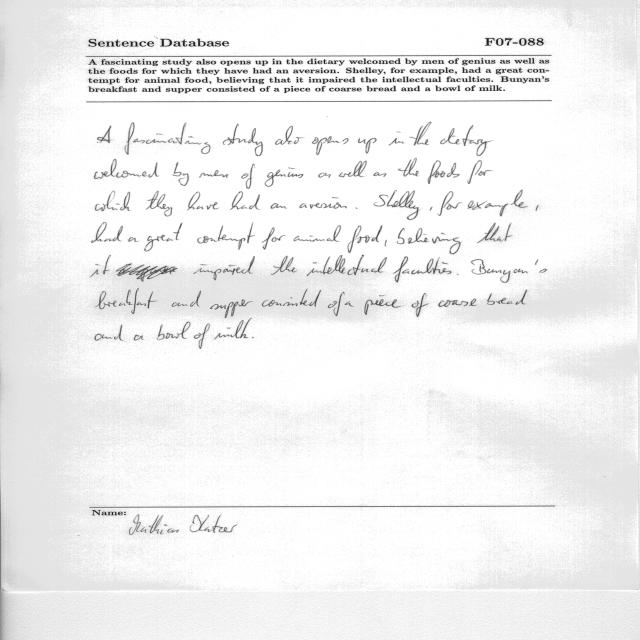word: (125, 122, 211, 155), (471, 259, 547, 283), (307, 255, 387, 276), (397, 228, 461, 254), (197, 222, 255, 250), (441, 125, 493, 156), (95, 288, 157, 314), (467, 190, 528, 216), (393, 257, 451, 283), (193, 256, 255, 280), (374, 190, 420, 220), (94, 159, 159, 179), (223, 124, 263, 156), (116, 263, 178, 282), (145, 223, 183, 251), (262, 289, 321, 307), (348, 225, 383, 253), (294, 225, 341, 242), (210, 299, 252, 318), (214, 318, 252, 339), (428, 160, 460, 184), (265, 167, 303, 187), (364, 295, 401, 315), (96, 191, 131, 211), (477, 223, 512, 243), (312, 136, 348, 155), (91, 222, 123, 243), (146, 191, 172, 216), (157, 322, 191, 340), (438, 191, 462, 216), (487, 290, 527, 305), (468, 160, 492, 184), (187, 192, 219, 210), (230, 191, 260, 210), (300, 197, 347, 209), (275, 126, 304, 145), (410, 122, 432, 146), (262, 228, 285, 250), (271, 256, 297, 275), (339, 161, 367, 178), (172, 291, 201, 307), (90, 255, 111, 277), (95, 325, 123, 341), (411, 293, 429, 317), (194, 323, 210, 349), (172, 162, 189, 186), (398, 158, 419, 177), (328, 292, 344, 316), (241, 164, 255, 189), (439, 299, 477, 307), (358, 138, 377, 153), (97, 126, 112, 143), (200, 170, 229, 178), (389, 132, 404, 146), (270, 203, 287, 209), (318, 173, 331, 178), (374, 172, 387, 177), (134, 335, 144, 341), (128, 237, 138, 242), (345, 302, 354, 307), (536, 205, 539, 211), (385, 240, 387, 246), (430, 206, 432, 211), (356, 208, 358, 209), (457, 274, 459, 275), (252, 337, 254, 338)
